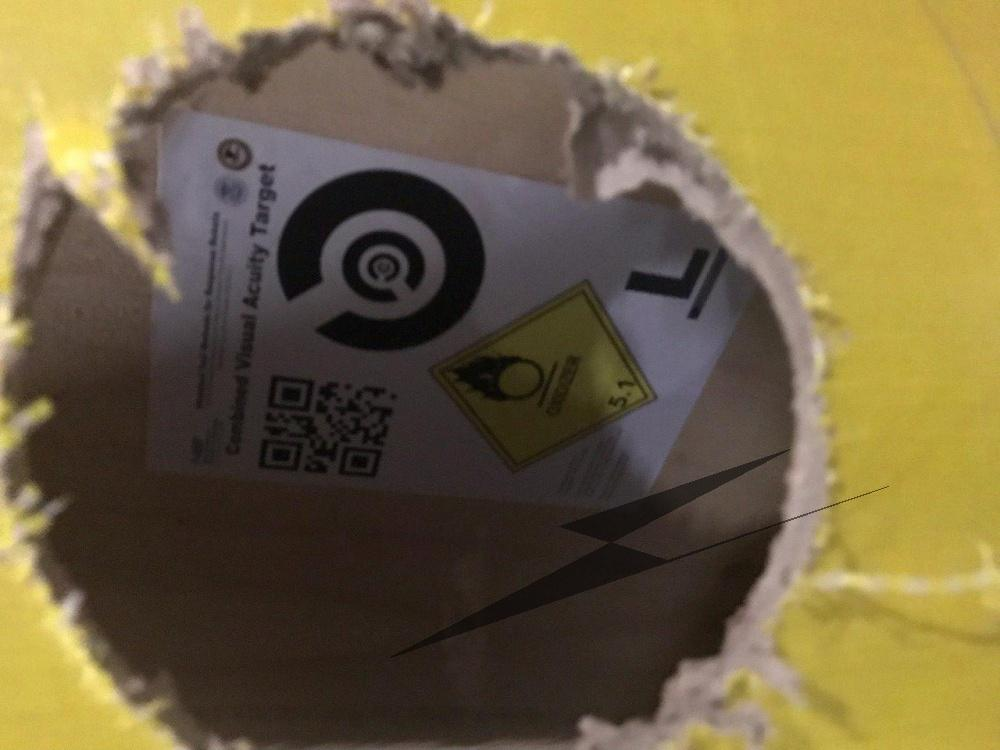oxidizer: (420, 279, 670, 477)
